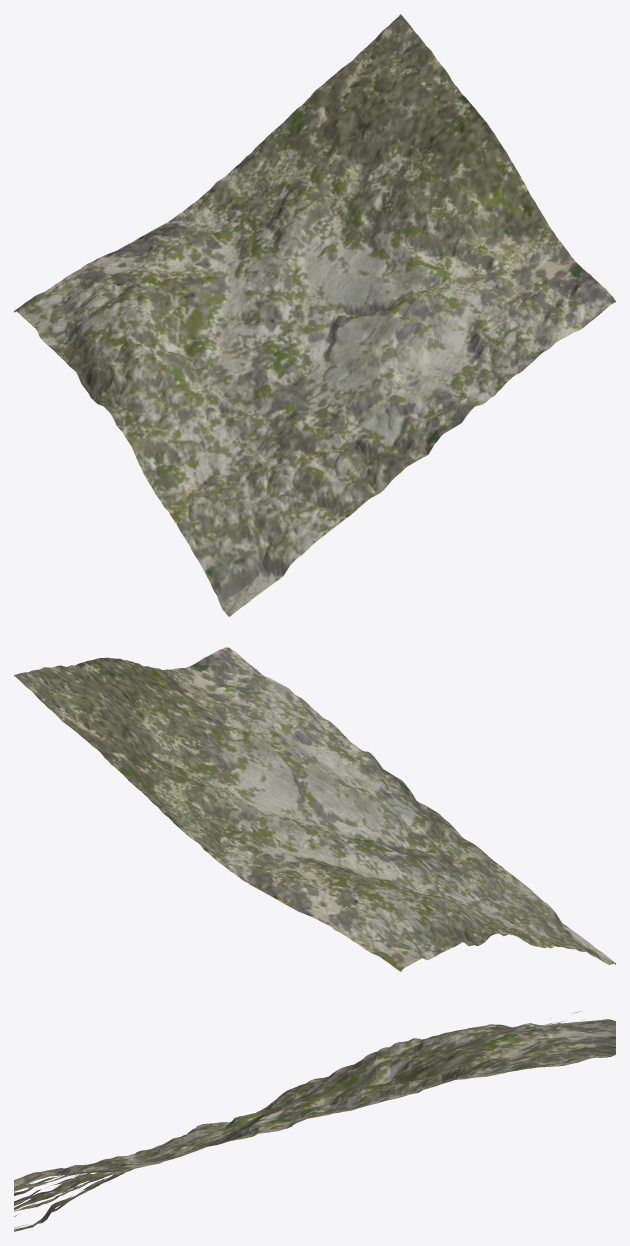
3 renders of one model, top to bottom at view 1: azimuth 30°, elevation 25°; view 2: azimuth 150°, elevation 25°; view 3: azimuth 270°, elevation 25°, orthographic. The views are drawn at different scales.
Bounding box in the file's own units: 250 × 218 × 241.
Materials: 1 (1 with a texture image).
